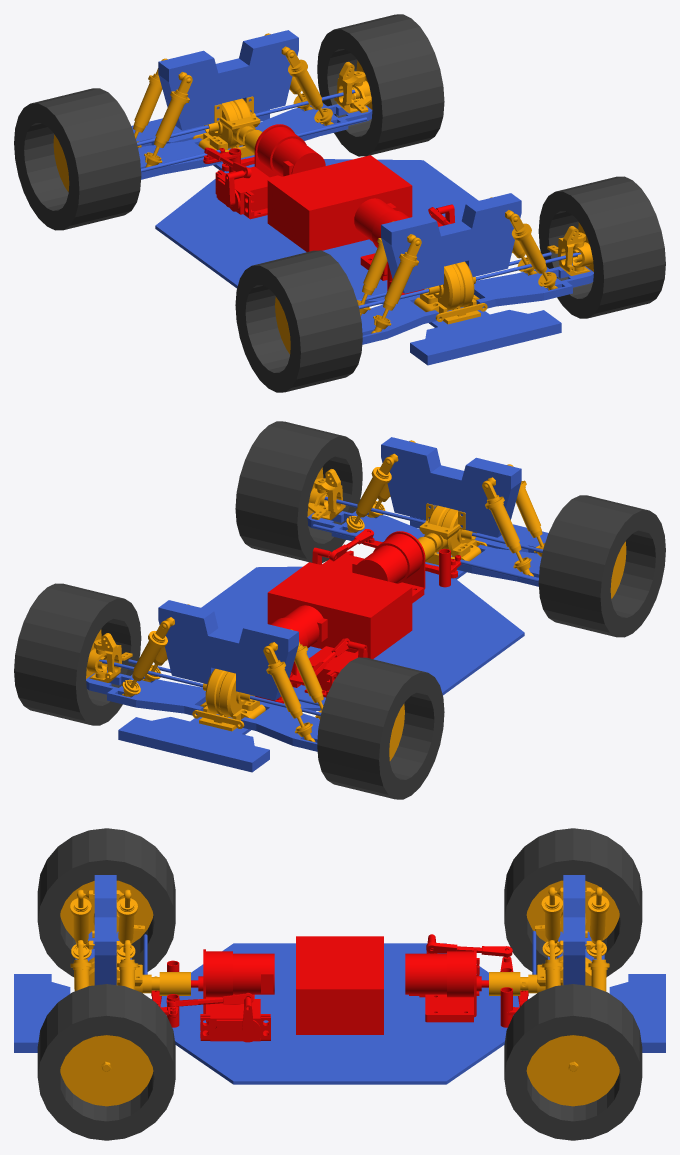
File: edu.glb
The picture shows the model from 3 angles, top to bottom: view 1: azimuth 30°, elevation 25°; view 2: azimuth 150°, elevation 25°; view 3: azimuth 270°, elevation 25°; orthographic projection. The views are drawn at different scales.
Parts seen in each view (by area): view 1: edu, drive-wheel-0, drive-wheel-2, drive-wheel-1, drive-wheel-3; view 2: edu, drive-wheel-2, drive-wheel-0, drive-wheel-1, drive-wheel-3; view 3: edu, drive-wheel-1, drive-wheel-3, drive-wheel-2, drive-wheel-0.
Boxes of the visible parts, x1,y1,x2,y2 form: edu: [131, 30, 593, 365]; drive-wheel-0: [14, 88, 141, 230]; drive-wheel-2: [235, 250, 362, 392]; drive-wheel-1: [317, 14, 444, 156]; drive-wheel-3: [538, 176, 665, 318]; edu: [86, 437, 548, 772]; drive-wheel-2: [538, 495, 665, 637]; drive-wheel-0: [317, 657, 444, 799]; drive-wheel-1: [14, 583, 141, 725]; drive-wheel-3: [235, 421, 362, 562]; edu: [14, 875, 665, 1084]; drive-wheel-1: [504, 984, 642, 1140]; drive-wheel-3: [37, 984, 175, 1140]; drive-wheel-2: [37, 828, 175, 976]; drive-wheel-0: [504, 828, 642, 976].
Size of the model in its own units: 0.354 by 0.122 by 0.52.
